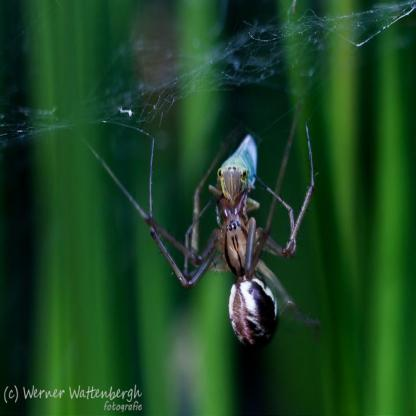Green-Leafhopper: (209, 130, 264, 216)
